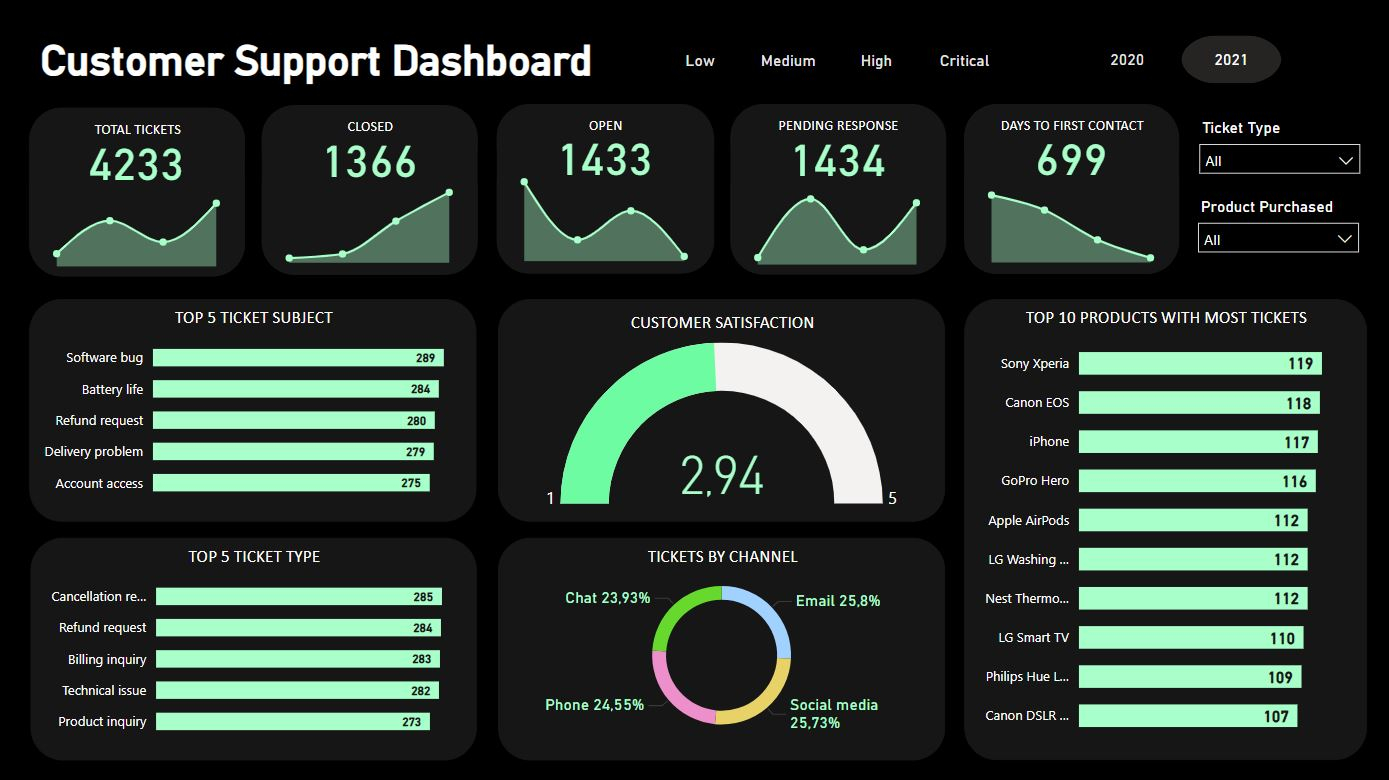

What the dashboard file says about the page in this screenshot:
{"tool":"powerbi","page":{"name":"Page 1","canvas":[1280,720],"ordinal":0},"visuals":[{"type":"textbox","box":[0,28.6,585.7,54.8],"z":0},{"type":"textbox","box":[242.9,97.1,198,155.3],"z":0,"group":"g2"},{"type":"textbox","box":[458.9,98.8,199.8,153.5],"z":0,"group":"g5"},{"type":"textbox","box":[28.3,99.4,198,155.3],"z":0,"group":"g1"},{"type":"areaChart","fields":{"Category":["customer_support_tickets.Date of Purchase.Variation.Date Hierarchy.Quarter"],"Y":["CountNonNull(customer_support_tickets.Ticket ID)"]},"box":[459.3,140.8,198.7,111.7],"z":1000,"group":"g5"},{"type":"areaChart","fields":{"Category":["customer_support_tickets.Date of Purchase.Variation.Date Hierarchy.Quarter"],"Y":["CountNonNull(customer_support_tickets.Ticket ID)"]},"box":[242.9,142.2,198,111.2],"z":1000,"group":"g2"},{"type":"areaChart","fields":{"Category":["customer_support_tickets.Date of Purchase.Variation.Date Hierarchy.Quarter"],"Y":["CountNonNull(customer_support_tickets.Ticket ID)"]},"box":[28.3,143.2,198,111.5],"z":1000,"group":"g1"},{"type":"gauge","title":"CUSTOMER SATISFACTION","fields":{"Y":["Avg(customer_support_tickets.Customer Satisfaction Rating)"],"MinValue":["Min(customer_support_tickets.Customer Satisfaction Rating)1"],"MaxValue":["Max(customer_support_tickets.Customer Satisfaction Rating)2"]},"box":[459.8,275.9,411.5,204.6],"z":1000},{"type":"card","title":"OPEN","fields":{"Values":["CountNonNull(customer_support_tickets.Ticket Status)"]},"box":[459.1,97,198.8,68.3],"z":2000,"group":"g5"},{"type":"card","title":"CLOSED","fields":{"Values":["CountNonNull(customer_support_tickets.Ticket Status)"]},"box":[242.9,97.1,198,68.1],"z":2000,"group":"g2"},{"type":"card","title":"TOTAL TICKETS","fields":{"Values":["CountNonNull(customer_support_tickets.Ticket ID)"]},"box":[28.3,99.4,198,68.9],"z":2000,"group":"g1"},{"type":"slicer","fields":{"Values":["customer_support_tickets.Ticket Type"]},"box":[1094,104.3,168,64.3],"z":2000},{"type":"textbox","box":[674.3,97.9,198.1,154],"z":3000,"group":"g4"},{"type":"clusteredBarChart","title":"TOP 10 PRODUCTS WITH MOST TICKETS","fields":{"Category":["customer_support_tickets.Product Purchased"],"Y":["CountNonNull(customer_support_tickets.Ticket ID)"]},"box":[888.5,275.9,370.1,424.1],"z":3000},{"type":"advancedSlicerVisual","fields":{"Values":["customer_support_tickets.Date of Purchase.Variation.Date Hierarchy.Year"]},"box":[987.4,28.7,198.9,54],"z":4000},{"type":"areaChart","fields":{"Category":["customer_support_tickets.Date of Purchase.Variation.Date Hierarchy.Quarter"],"Y":["CountNonNull(customer_support_tickets.Ticket ID)"]},"box":[674.4,141.8,197,112.1],"z":4000,"group":"g4"},{"type":"card","title":"PENDING RESPONSE","fields":{"Values":["CountNonNull(customer_support_tickets.Ticket Status)"]},"box":[674,97,197,68.2],"z":5000,"group":"g4"},{"type":"group","id":"g1","title":"Group 1","box":[28.3,99.4,198,156],"z":5000},{"type":"group","id":"g2","title":"Group 2","box":[242.9,97.1,198,156],"z":6000},{"type":"textbox","box":[888.2,97.9,197.9,155.2],"z":6000,"group":"g3"},{"type":"areaChart","fields":{"Category":["customer_support_tickets.Date of Purchase.Variation.Date Hierarchy.Quarter"],"Y":["Sum(customer_support_tickets.Time to First Response Days)"]},"box":[888.1,139.9,197.6,112.6],"z":6500,"group":"g3"},{"type":"advancedSlicerVisual","fields":{"Values":["customer_support_tickets.Ticket Priority"]},"box":[602.3,29.9,332.2,51.7],"z":7000},{"type":"card","title":"DAYS TO FIRST CONTACT","fields":{"Values":["Avg(customer_support_tickets.Time to First Response Days)"]},"box":[888,97,197,68.8],"z":7000,"group":"g3"},{"type":"group","id":"g3","title":"Group 3","box":[888,97,198.1,156.1],"z":8000},{"type":"group","id":"g4","title":"Group 4","box":[674,97,198.4,156.9],"z":9000},{"type":"group","id":"g5","title":"Group 5","box":[458.9,97,198,156.1],"z":10000},{"type":"slicer","fields":{"Values":["customer_support_tickets.Product Purchased"]},"box":[1093.6,177.3,168,64.5],"z":11000},{"type":"clusteredBarChart","title":"TOP 5 TICKET SUBJECT","fields":{"Category":["customer_support_tickets.Ticket Subject"],"Y":["CountNonNull(customer_support_tickets.Ticket ID)"]},"box":[28.7,275.9,411.5,204.6],"z":12000},{"type":"clusteredBarChart","title":"TOP 5 TICKET TYPE","fields":{"Category":["customer_support_tickets.Ticket Type"],"Y":["CountNonNull(customer_support_tickets.Ticket ID)"]},"box":[29.9,495.4,410.3,204.6],"z":13000},{"type":"donutChart","title":"TICKETS BY CHANNEL","fields":{"Y":["CountNonNull(customer_support_tickets.Ticket Channel)"],"Category":["customer_support_tickets.Ticket Channel"],"Series":["customer_support_tickets.Ticket Channel"]},"box":[459.8,495.4,411.5,204.6],"z":14000}]}

Visuals, with their boxes in screenshot pixels (x1, y1, x2, y2), scaled from the page's 1280x720 canvas onto the 1389x780 screenshot:
textbox: box(0, 31, 636, 90)
textbox: box(264, 105, 478, 273)
textbox: box(498, 107, 715, 273)
textbox: box(31, 108, 246, 276)
areaChart - customer_support_tickets.Date of Purchase.Variation.Date Hierarchy.Quarter x CountNonNull(customer_support_tickets.Ticket ID): box(498, 153, 714, 274)
areaChart - customer_support_tickets.Date of Purchase.Variation.Date Hierarchy.Quarter x CountNonNull(customer_support_tickets.Ticket ID): box(264, 154, 478, 275)
areaChart - customer_support_tickets.Date of Purchase.Variation.Date Hierarchy.Quarter x CountNonNull(customer_support_tickets.Ticket ID): box(31, 155, 246, 276)
"CUSTOMER SATISFACTION" gauge: box(499, 299, 945, 521)
"OPEN" card: box(498, 105, 714, 179)
"CLOSED" card: box(264, 105, 478, 179)
"TOTAL TICKETS" card: box(31, 108, 246, 182)
slicer - customer_support_tickets.Ticket Type: box(1187, 113, 1369, 183)
textbox: box(732, 106, 947, 273)
"TOP 10 PRODUCTS WITH MOST TICKETS" clusteredBarChart: box(964, 299, 1366, 758)
advancedSlicerVisual - customer_support_tickets.Date of Purchase.Variation.Date Hierarchy.Year: box(1071, 31, 1287, 90)
areaChart - customer_support_tickets.Date of Purchase.Variation.Date Hierarchy.Quarter x CountNonNull(customer_support_tickets.Ticket ID): box(732, 154, 946, 275)
"PENDING RESPONSE" card: box(731, 105, 945, 179)
"Group 1" group: box(31, 108, 246, 277)
"Group 2" group: box(264, 105, 478, 274)
textbox: box(964, 106, 1179, 274)
areaChart - customer_support_tickets.Date of Purchase.Variation.Date Hierarchy.Quarter x Sum(customer_support_tickets.Time to First Response Days): box(964, 152, 1178, 274)
advancedSlicerVisual - customer_support_tickets.Ticket Priority: box(654, 32, 1014, 88)
"DAYS TO FIRST CONTACT" card: box(964, 105, 1177, 180)
"Group 3" group: box(964, 105, 1179, 274)
"Group 4" group: box(731, 105, 947, 275)
"Group 5" group: box(498, 105, 713, 274)
slicer - customer_support_tickets.Product Purchased: box(1187, 192, 1369, 262)
"TOP 5 TICKET SUBJECT" clusteredBarChart: box(31, 299, 478, 521)
"TOP 5 TICKET TYPE" clusteredBarChart: box(32, 537, 478, 758)
"TICKETS BY CHANNEL" donutChart: box(499, 537, 945, 758)
